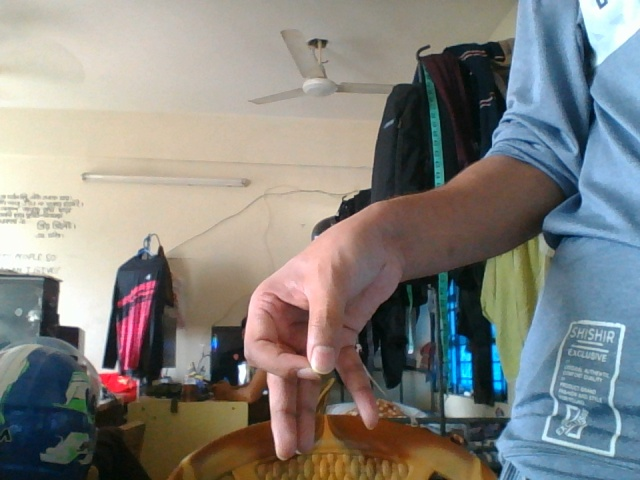pa: (244, 193, 396, 461)
